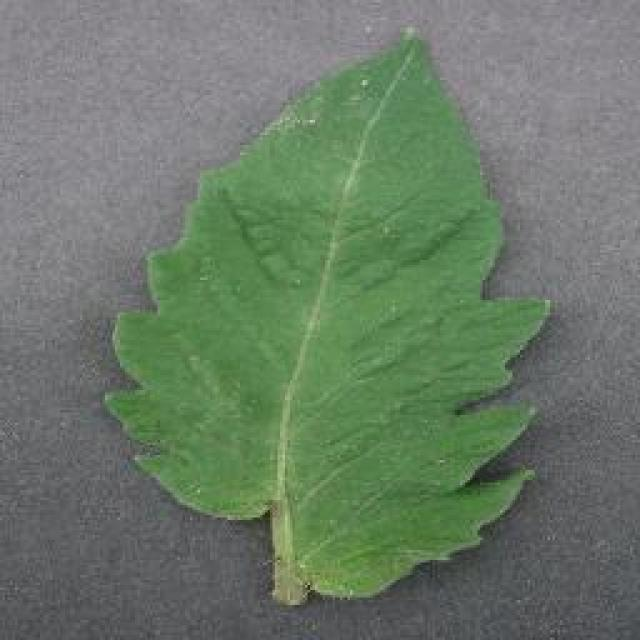Healthy: (90, 22, 562, 620)
